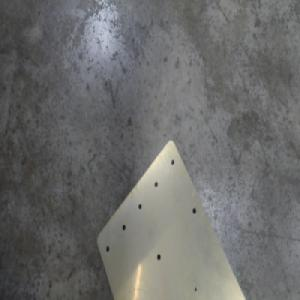MetalSheet: (94, 135, 251, 300)
